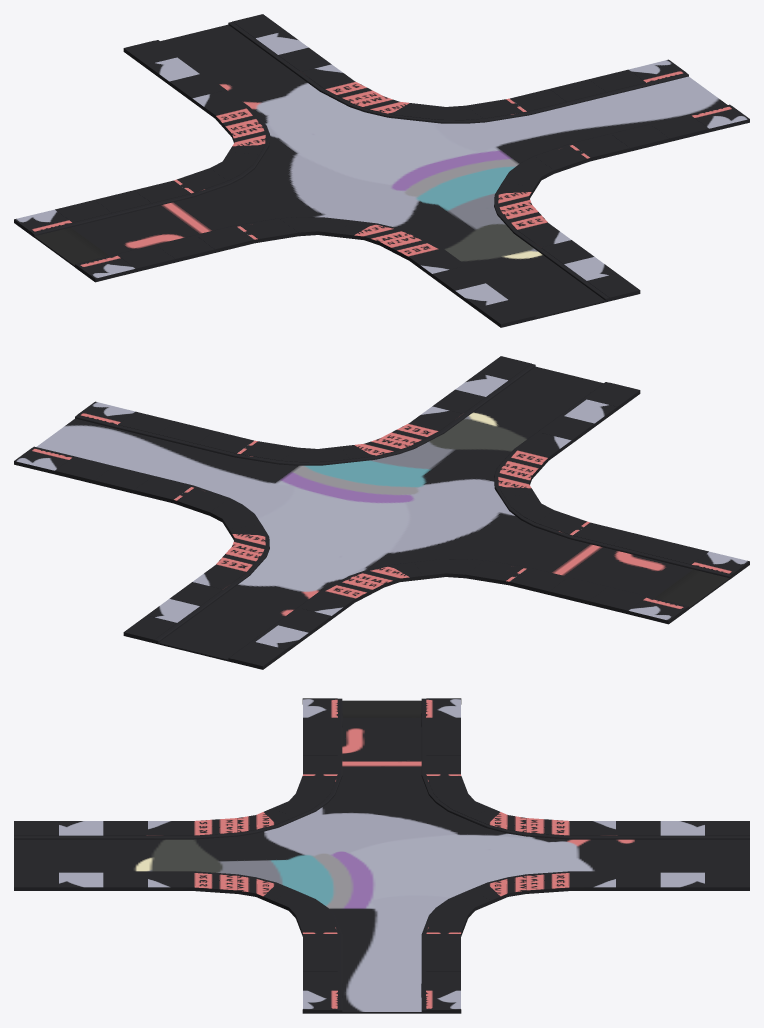
The model's file is SM_Street_4Way_Long.fbx.
3 views of the same model, one above another, from view 1: azimuth 30°, elevation 25°; view 2: azimuth 150°, elevation 25°; view 3: azimuth 270°, elevation 25° (orthographic). The views are drawn at different scales.
Parts seen in each view (by area): view 1: SM_Road_4Way_Long, SM_Sidewalk_4Way_Long; view 2: SM_Road_4Way_Long, SM_Sidewalk_4Way_Long; view 3: SM_Road_4Way_Long, SM_Sidewalk_4Way_Long.
Boxes of the visible parts, x1,y1,x2,y2 form: SM_Road_4Way_Long: (34, 24, 727, 319); SM_Sidewalk_4Way_Long: (14, 14, 749, 327); SM_Road_4Way_Long: (36, 366, 729, 661); SM_Sidewalk_4Way_Long: (14, 356, 749, 669); SM_Road_4Way_Long: (14, 700, 749, 1013); SM_Sidewalk_4Way_Long: (14, 698, 749, 1013).
Bounding box in the file's own units: 2907 × 15.59 × 2902.
